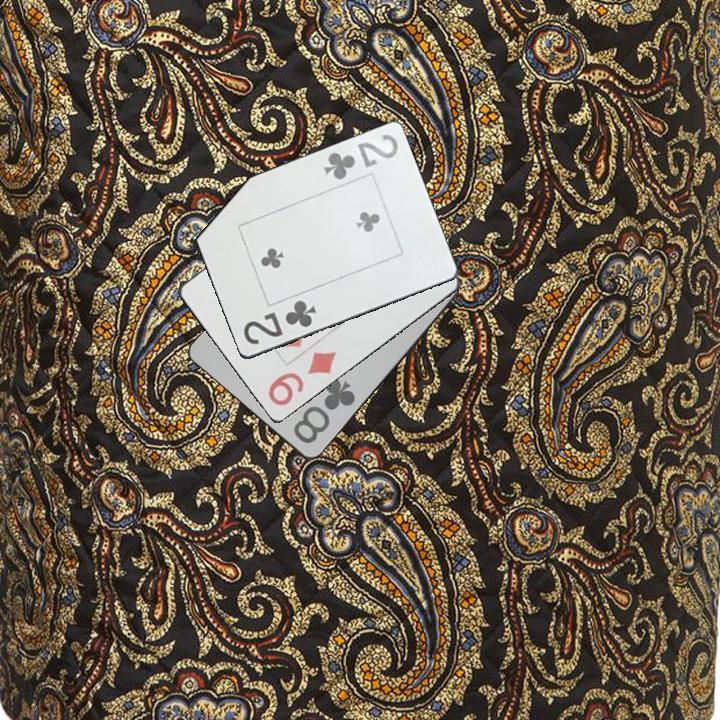2c: (319, 131, 401, 183), (239, 297, 320, 348)
8c: (290, 375, 358, 448)
9d: (263, 348, 340, 409)
